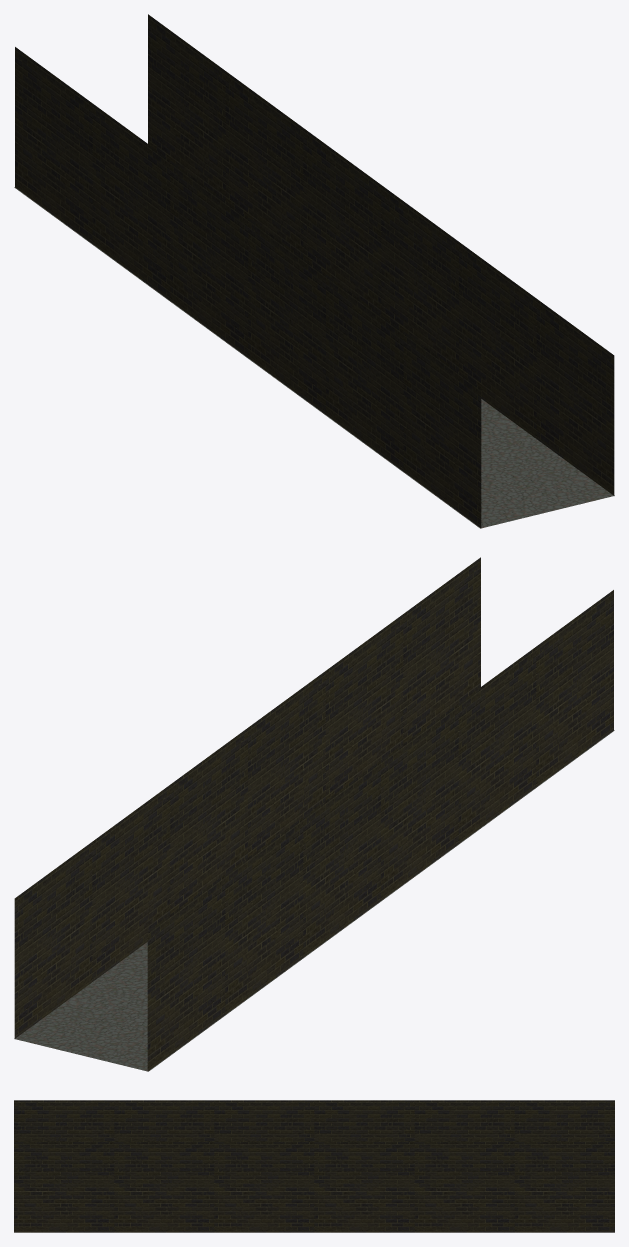
File: wall test4.fbx
3 renders of one model, top to bottom at view 1: azimuth 30°, elevation 25°; view 2: azimuth 150°, elevation 25°; view 3: azimuth 270°, elevation 25°, orthographic. The views are drawn at different scales.
Parts seen in each view (by area): view 1: Brick Wall.004; view 2: Brick Wall.004; view 3: Brick Wall.004.
Part boxes in pixels (x1,y1,x2,y2): Brick Wall.004: [14, 14, 614, 528]; Brick Wall.004: [14, 557, 614, 1071]; Brick Wall.004: [14, 1100, 614, 1232].
Size of the model in its own units: 343 by 343 by 2056.
2 materials, 2 textured.
